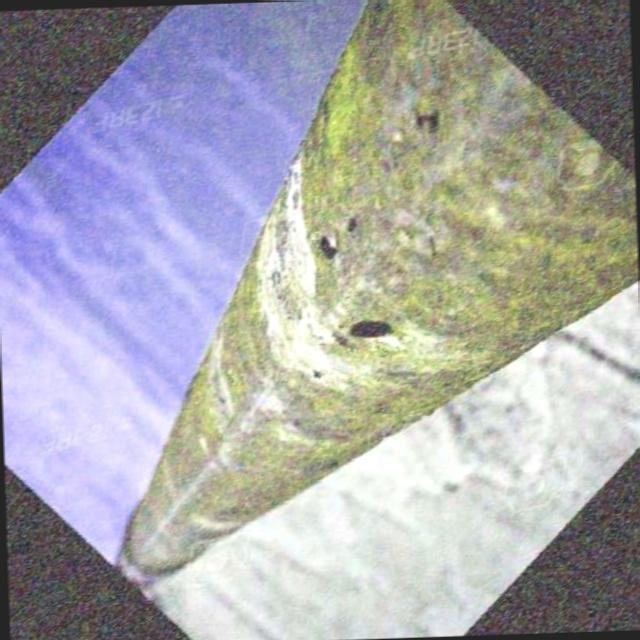Hole: (307, 206, 418, 354)
